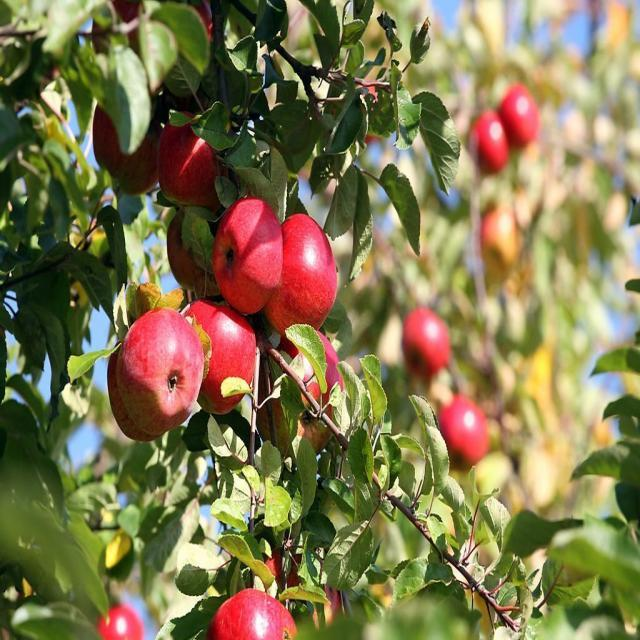Red Apple: (116, 305, 205, 434), (262, 323, 344, 457), (261, 213, 341, 333), (183, 295, 260, 417), (217, 200, 286, 325), (92, 83, 164, 199), (158, 106, 225, 215), (108, 338, 174, 441), (269, 550, 340, 633), (215, 594, 302, 640), (167, 209, 217, 287), (481, 202, 531, 274), (403, 307, 453, 378), (440, 396, 491, 463), (499, 83, 542, 143), (469, 108, 507, 173), (100, 604, 146, 640)
